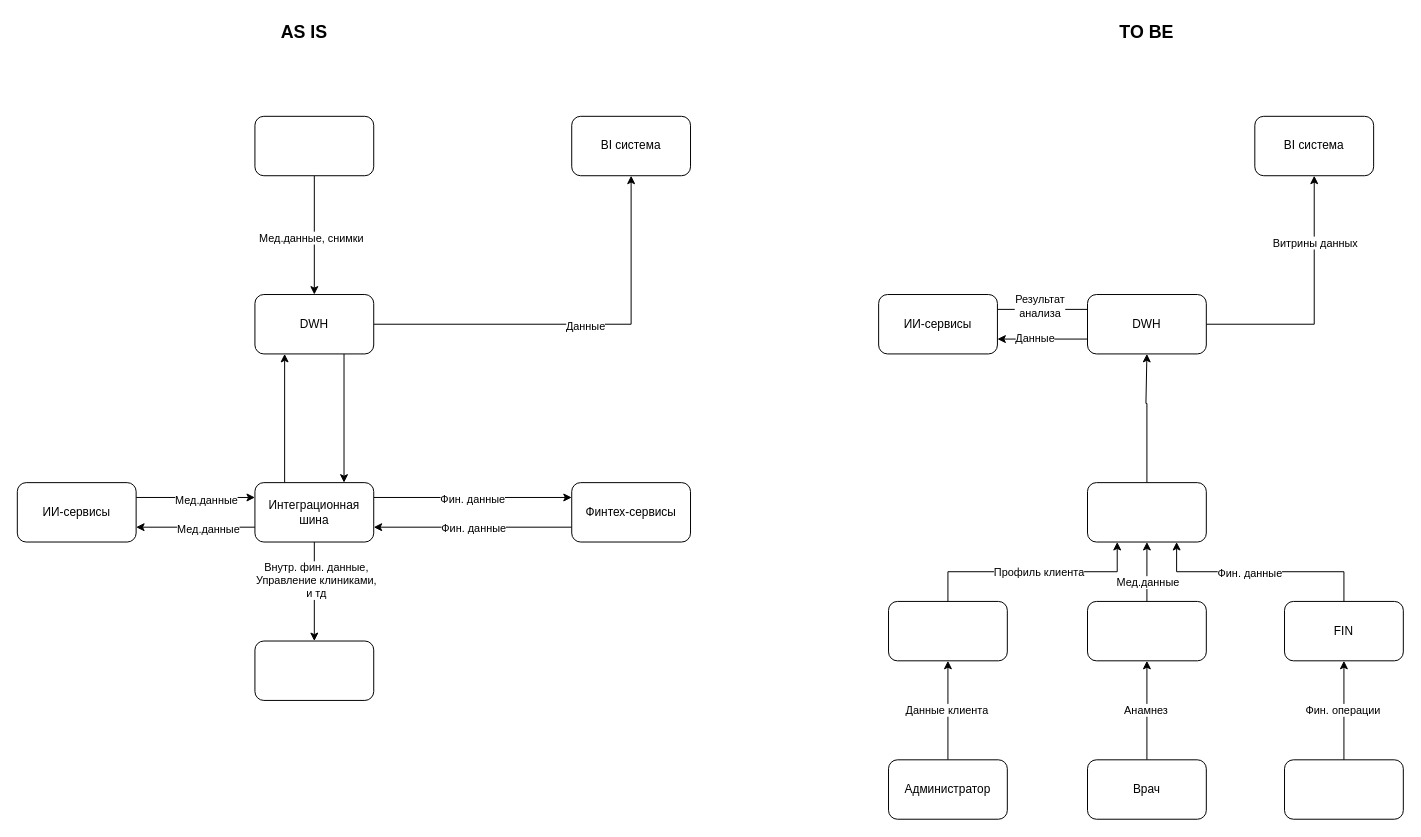
Some shapes in this 1421 by 837 pixel diagram are drawn without their labels. The shapes that lost their labels are listed below. From the top down, each one's centre as x and y in pixels, then its label:
the point at 314,145: Клиентский интерфейс оператора
the point at 1146,512: AirFlow
the point at 947,630: CRM
the point at 1146,630: MED
the point at 314,670: Внутренние сервисы
the point at 1343,789: Бухгалтер
